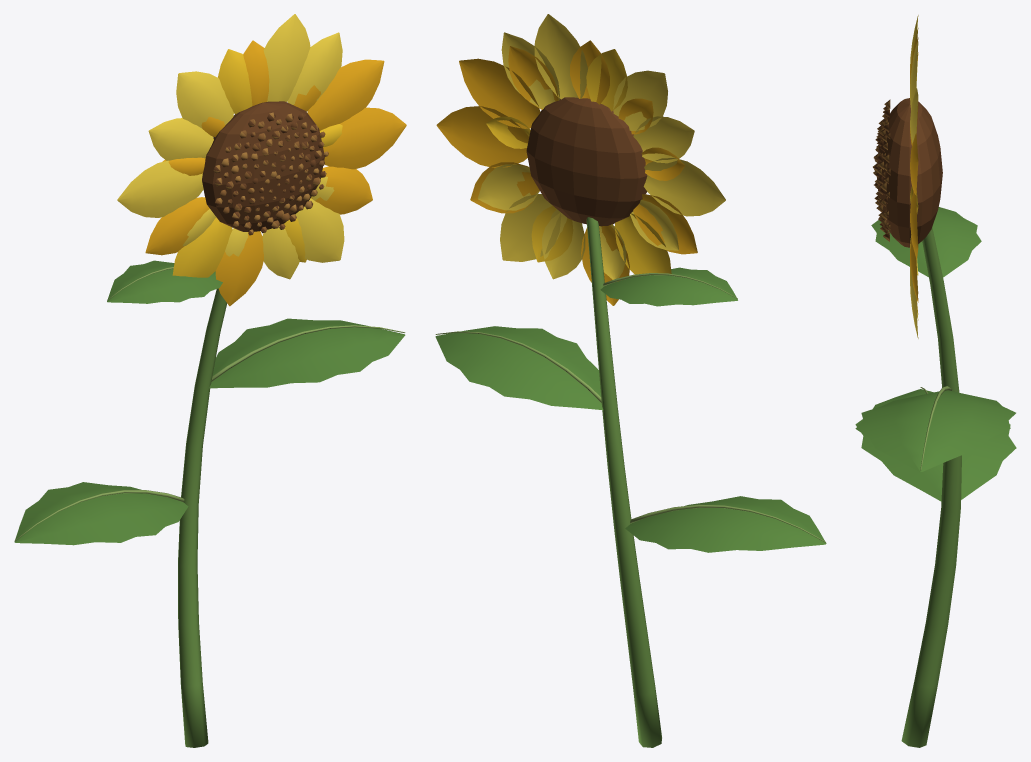
File: sunflower-test-bloom-0-1.glb
3 views of the same model, side by side, from view 1: azimuth 30°, elevation 25°; view 2: azimuth 150°, elevation 25°; view 3: azimuth 270°, elevation 25° (orthographic). The views are drawn at different scales.
Parts seen in each view (by area): view 1: Curved tapered stem; view 2: Curved tapered stem; view 3: Curved tapered stem.
Boxes of the visible parts, x1=… form: Curved tapered stem: x1=14, y1=14, x2=406, y2=747; Curved tapered stem: x1=435, y1=14, x2=826, y2=747; Curved tapered stem: x1=855, y1=15, x2=1016, y2=747.
Bounding box in the file's own units: 0.3335 × 0.5763 × 0.1116.
